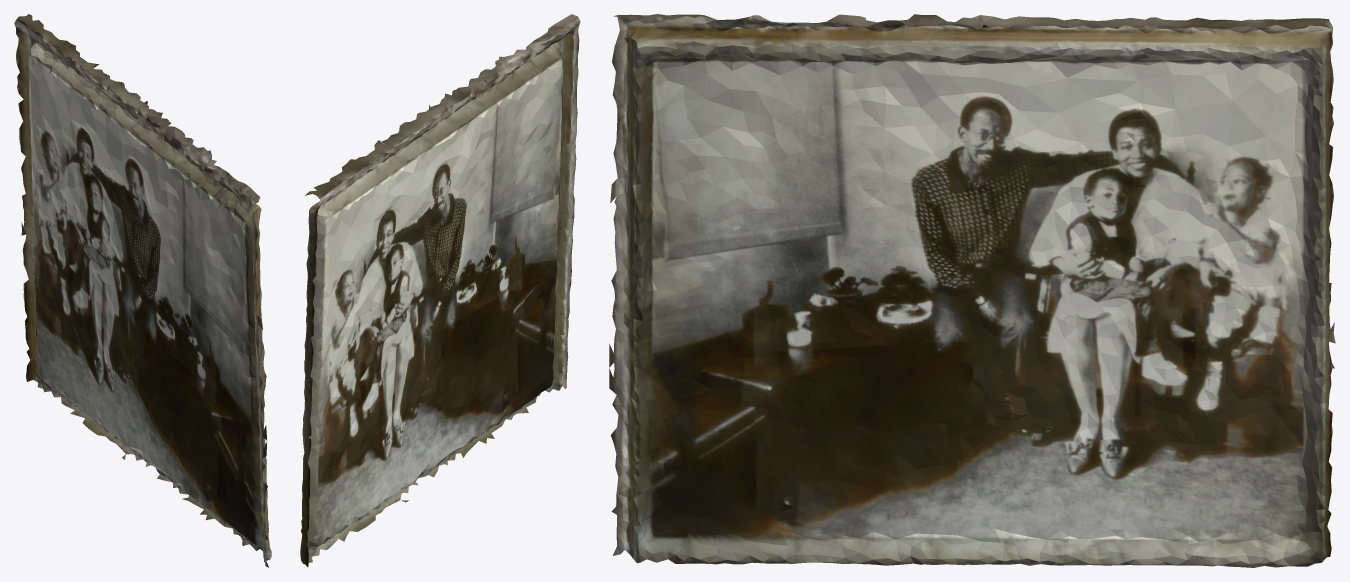
Rendered from foto_up.gltf.
3 renders of one model, left to right at view 1: azimuth 30°, elevation 25°; view 2: azimuth 150°, elevation 25°; view 3: azimuth 270°, elevation 25°, orthographic. The views are drawn at different scales.
Visible parts, largest first — view 1: model_Foto_nice_20250202_124908214; view 2: model_Foto_nice_20250202_124908214; view 3: model_Foto_nice_20250202_124908214.
Part boxes in pixels (<box>): model_Foto_nice_20250202_124908214: <box>14,14,271,567</box>; model_Foto_nice_20250202_124908214: <box>300,14,580,567</box>; model_Foto_nice_20250202_124908214: <box>609,14,1335,567</box>.
Bounding box in the file's own units: 0.0896 × 0.9176 × 1.12.
1 material, 1 textured.
